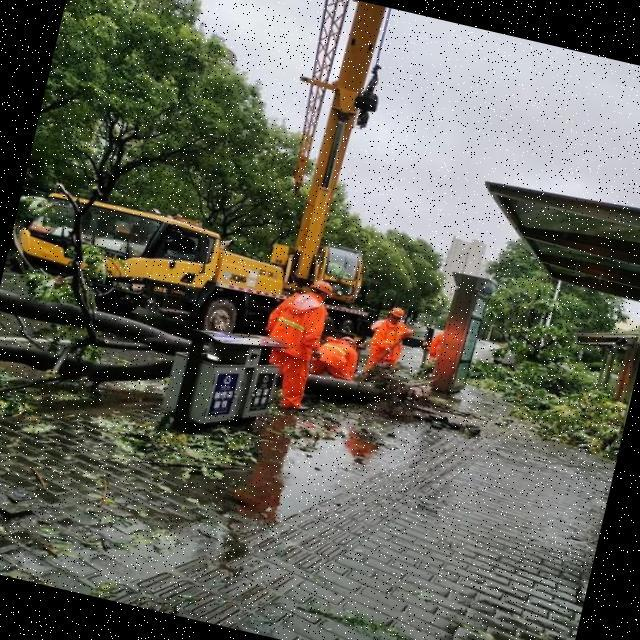fallen_object: (0, 277, 423, 472)
